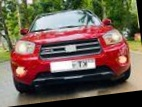car: (5, 3, 133, 96)
